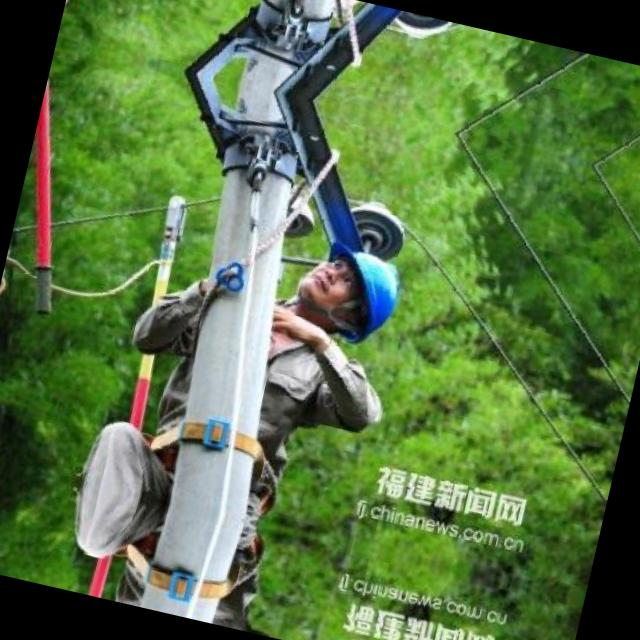helmet: (286, 229, 408, 341)
